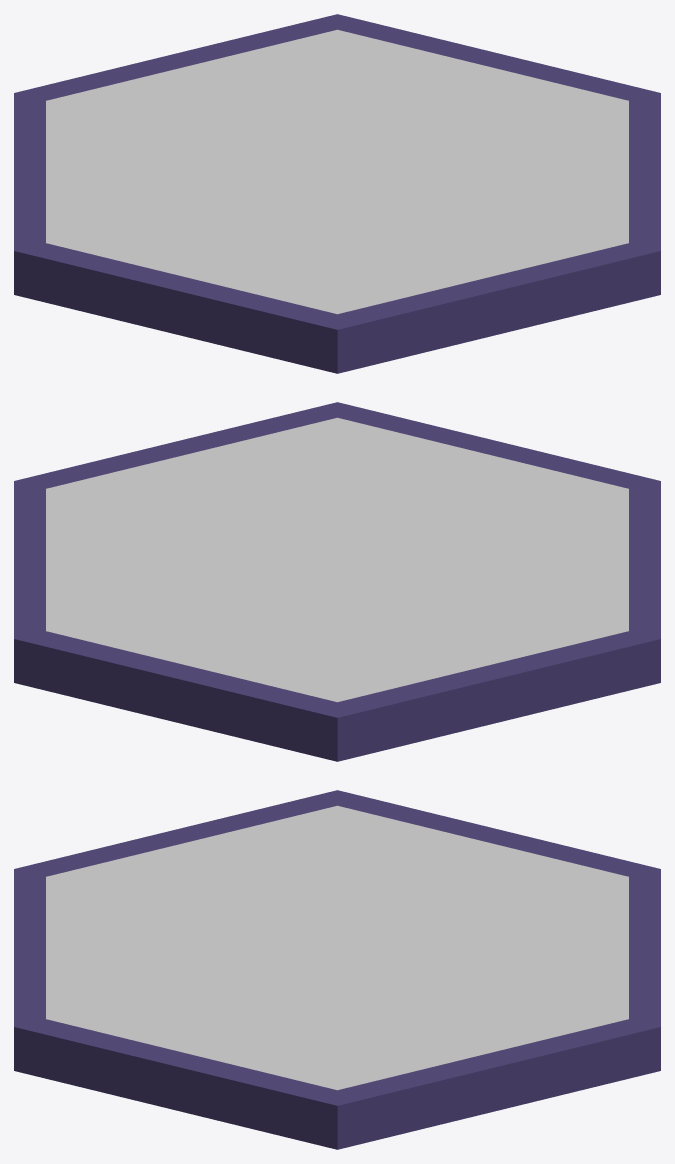
Rendered from Hex2.fbx.
3 views of the same model, one above another, from view 1: azimuth 30°, elevation 25°; view 2: azimuth 150°, elevation 25°; view 3: azimuth 270°, elevation 25° (orthographic).
Visible parts, largest first — view 1: Hex 1; view 2: Hex 1; view 3: Hex 1.
Part boxes in pixels (<box>): Hex 1: <box>14,14,660,373</box>; Hex 1: <box>14,402,660,761</box>; Hex 1: <box>14,790,660,1149</box>.
Size of the model in its own units: 200 by 13 by 173.
